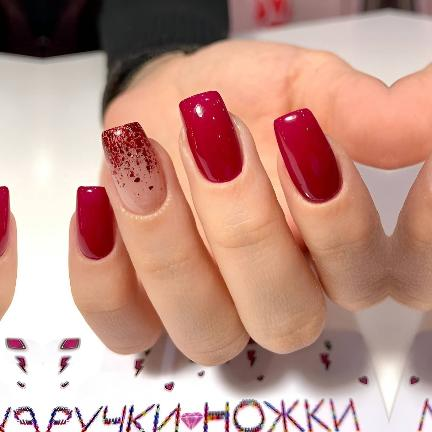Nail: (273, 108, 341, 203), (100, 122, 166, 215), (178, 90, 243, 183), (74, 186, 115, 260), (0, 186, 10, 256)
